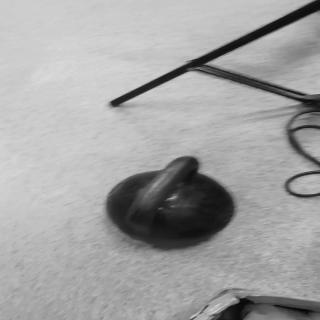kettlebell: (107, 156, 241, 246)
